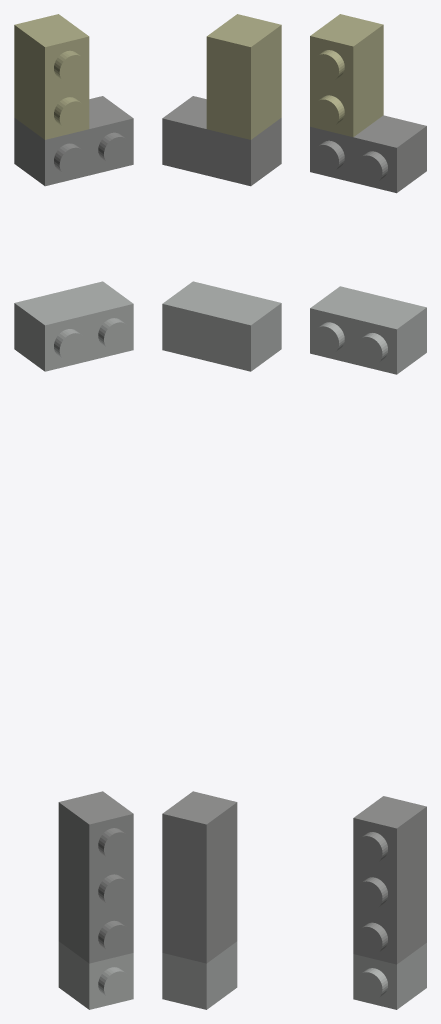
Rendered from current.glb.
3 views of the same model, side by side, from view 1: azimuth 30°, elevation 25°; view 2: azimuth 150°, elevation 25°; view 3: azimuth 330°, elevation 25° (orthographic). The views are drawn at different scales.
Parts seen in each view (by area): view 1: world; view 2: world; view 3: world.
Boxes of the visible parts, x1,y1,x2,y2 form: world: (14,14,133,1009); world: (162,14,281,1009); world: (310,14,426,1009).
Bounding box in the file's own units: 16 × 168 × 11.4.
